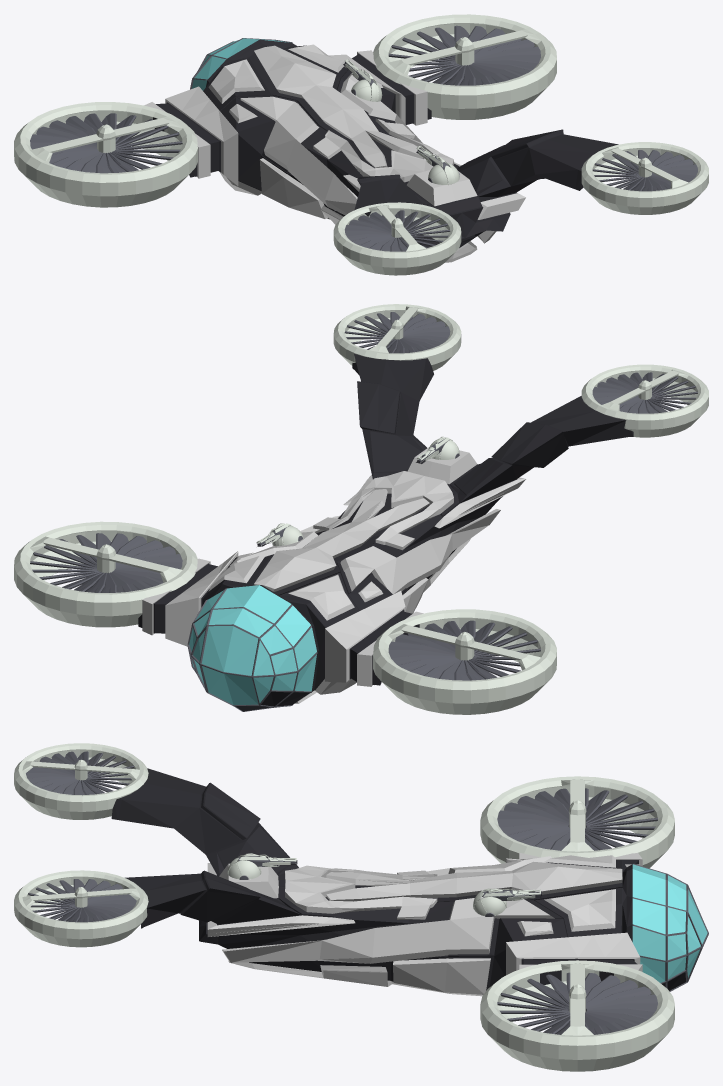
Rendered from quadcopter.dae.
3 renders of one model, top to bottom at view 1: azimuth 30°, elevation 25°; view 2: azimuth 150°, elevation 25°; view 3: azimuth 270°, elevation 25°, orthographic. The views are drawn at different scales.
Parts seen in each view (by area): view 1: Cylinder, Cube, Cylinder_001, Cube_018, Cube_011, Cube_010, Cube_001, Cube_003, Cube_012, Cube_004, Cube_007, Cube_013 (+6 smaller); view 2: Cube, Cylinder, Cube_015, Cube_018, Cylinder_001, Cube_010, Cube_001, Cube_003, Cube_011, Cube_012, Cube_004, Cube_002 (+2 smaller); view 3: Cube, Cylinder, Cube_018, Cylinder_001, Cube_011, Cube_015, Cube_010, Cube_001, Cube_012, Cube_003, Cube_007, Cube_004 (+7 smaller).
Part boxes in pixels (x1,y1,x2,y2): Cylinder: (14,14,556,207); Cube: (153,39,618,247); Cylinder_001: (333,142,708,275); Cube_018: (30,25,540,173); Cube_011: (240,73,496,243); Cube_010: (254,45,424,167); Cube_001: (344,150,697,251); Cube_003: (165,54,405,185); Cube_012: (313,118,453,182); Cube_004: (208,44,345,103); Cube_007: (259,158,328,218); Cube_013: (407,170,477,206); Cube: (138,353,633,691); Cylinder: (14,521,556,714); Cube_015: (187,585,317,711); Cube_018: (30,533,540,680); Cylinder_001: (333,304,708,437); Cube_010: (254,489,429,591); Cube_001: (344,312,697,413); Cube_003: (165,551,405,682); Cube_011: (240,509,500,594); Cube_012: (313,471,453,550); Cube_004: (208,556,354,620); Cube_002: (142,558,423,686); Cube: (111,768,638,990); Cylinder: (480,776,674,1071); Cube_018: (497,788,657,1034); Cylinder_001: (14,743,148,947); Cube_011: (222,856,554,963); Cube_015: (632,864,708,991); Cube_010: (326,861,622,901); Cube_001: (26,751,136,922); Cube_012: (285,865,437,919); Cube_003: (506,858,640,975); Cube_007: (393,958,490,994); Cube_004: (544,855,615,931).
Bounding box in the file's own units: 13.63 × 15.03 × 4.18.
